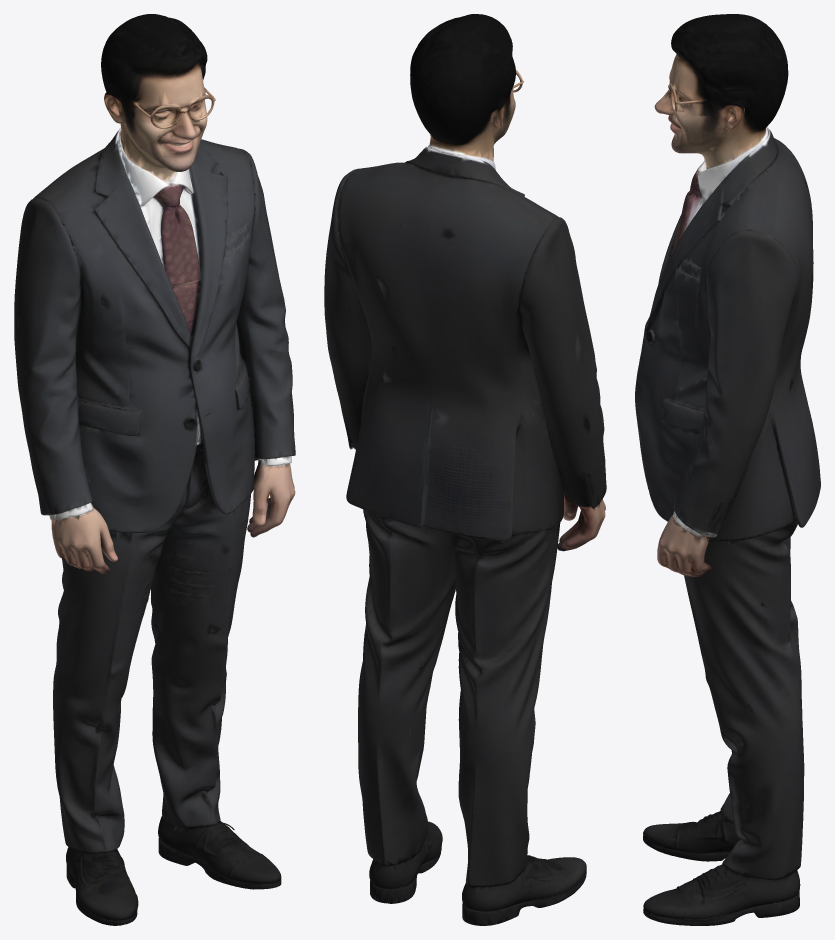
Rendered from eyad.glb.
The picture shows the model from 3 angles, left to right: view 1: azimuth 30°, elevation 25°; view 2: azimuth 150°, elevation 25°; view 3: azimuth 270°, elevation 25°; orthographic projection.
Parts seen in each view (by area): view 1: node_0; view 2: node_0; view 3: node_0.
Boxes of the visible parts, bbox=[...] form: node_0: bbox=[14, 14, 295, 925]; node_0: bbox=[324, 14, 606, 925]; node_0: bbox=[635, 14, 820, 925].
Size of the model in its own units: 0.369 by 1.17 by 0.2281.
1 material, 1 textured.
